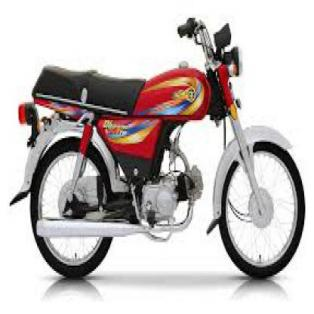Motocicleta: (11, 6, 308, 282)
